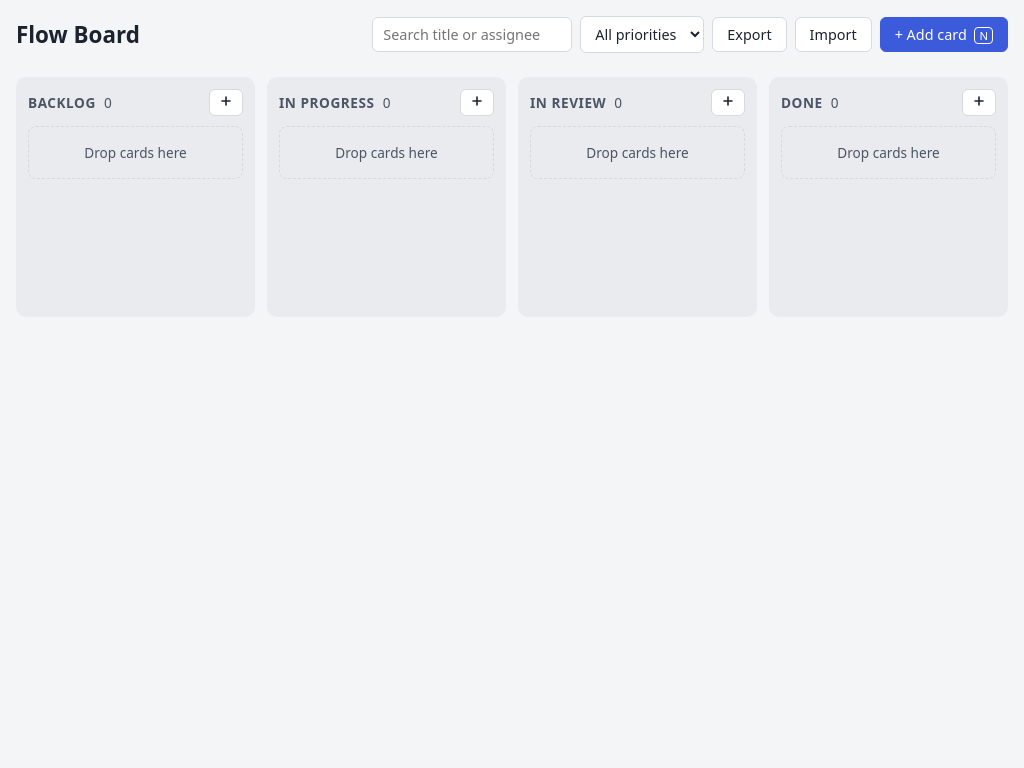
creating cards › creates a card in Backlog and persists it
The image size is (1024, 768).
Click the button "+ Add card N".
click(944, 34)  # box [880, 17, 1008, 52]
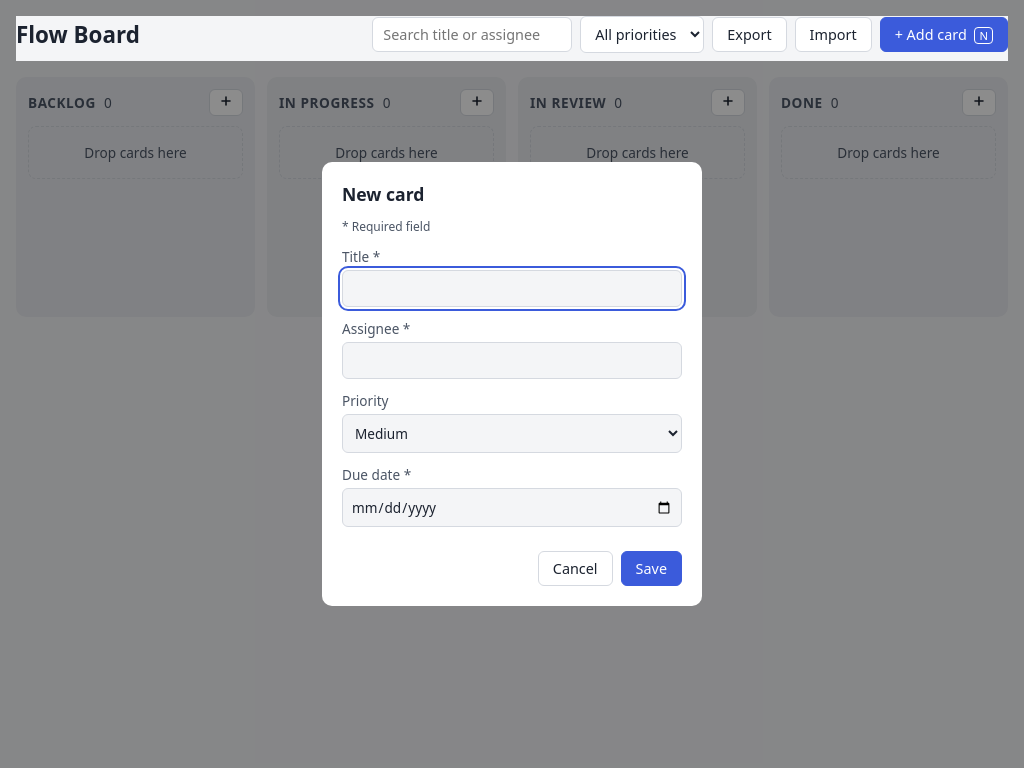
Type "Write docs" into the field labelled "Title *".
click(512, 288); type("Write docs")  # box [342, 270, 682, 307]
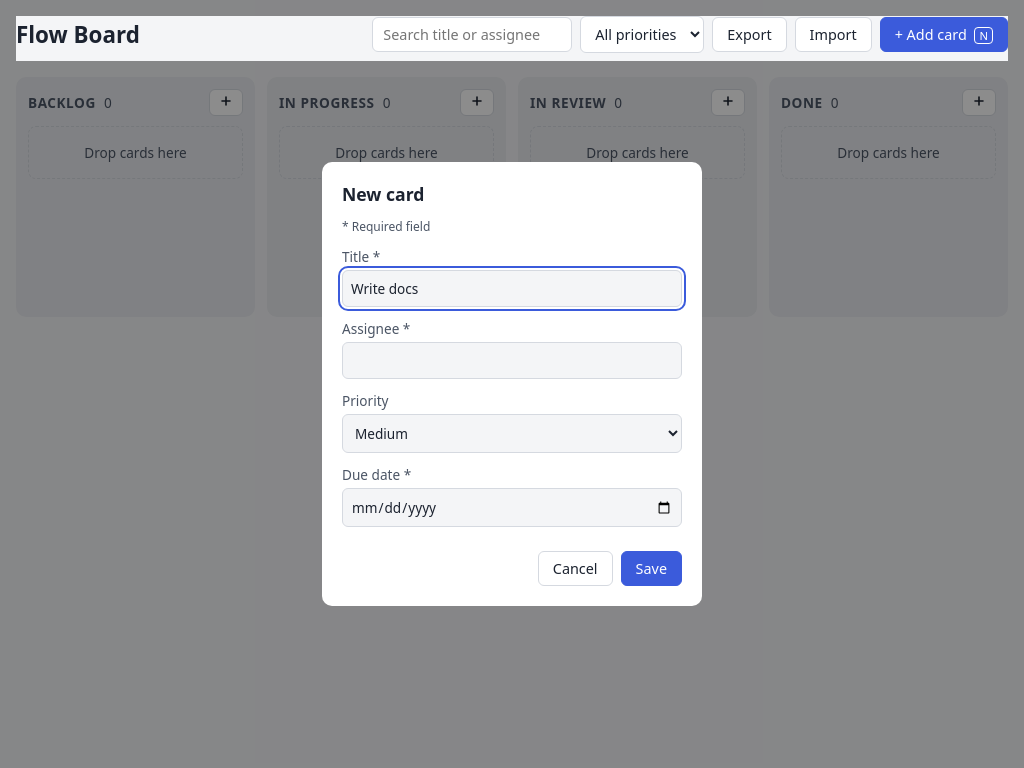
Type "Kim" into the field labelled "Assignee *".
click(512, 360); type("Kim")  # box [342, 342, 682, 379]
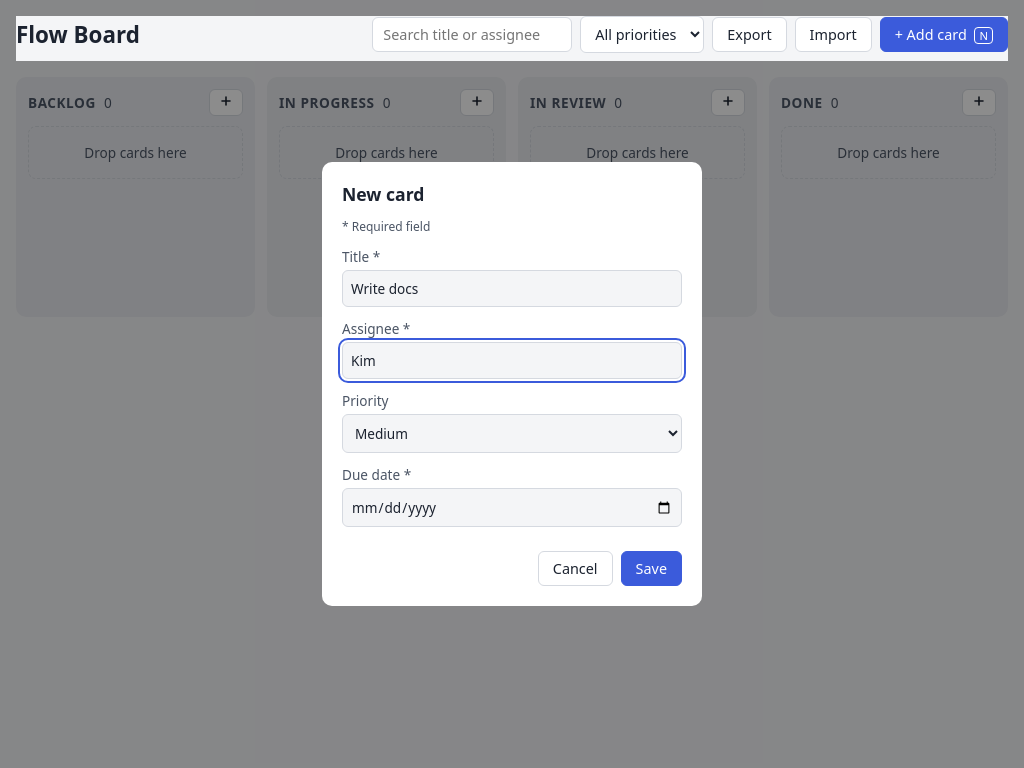
Type "2030-05-01" into the date field labelled "Due date *".
click(512, 508); type("2030-05-01")  # box [342, 488, 682, 527]
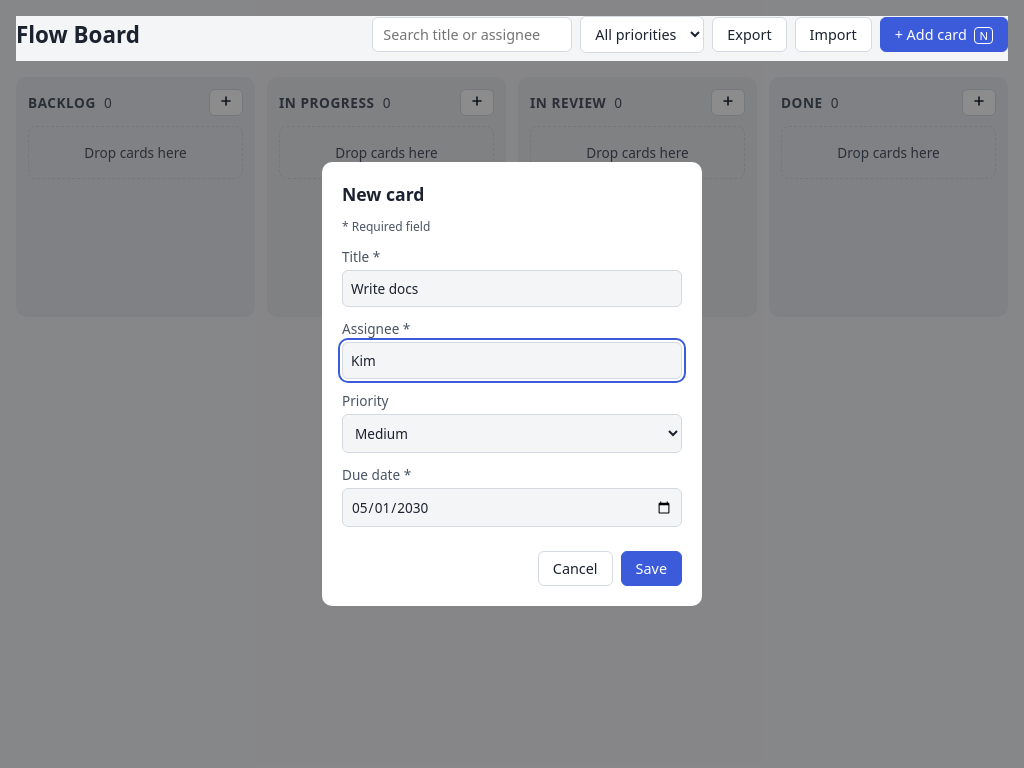
Click the button "Save".
click(651, 568)  # box [621, 551, 682, 586]
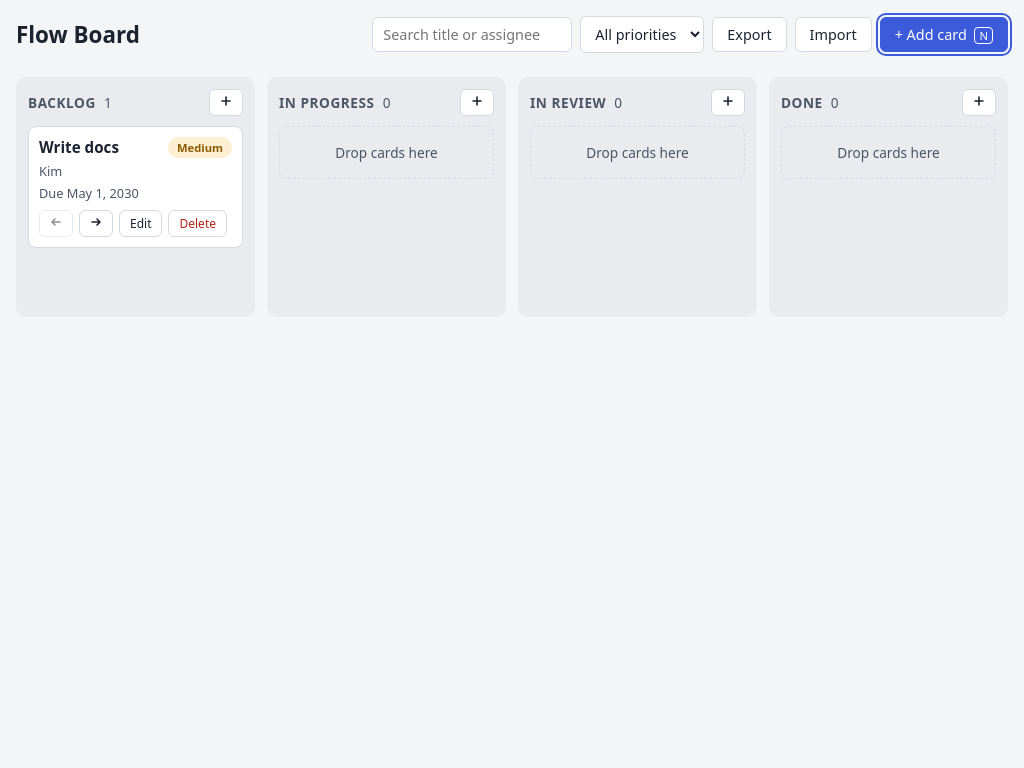
Expected: the dialog is gone
